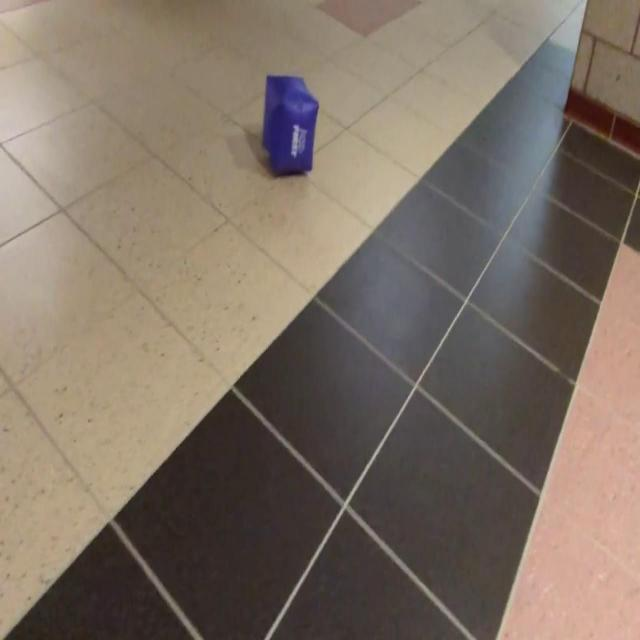frc_cube: (258, 76, 318, 174)
